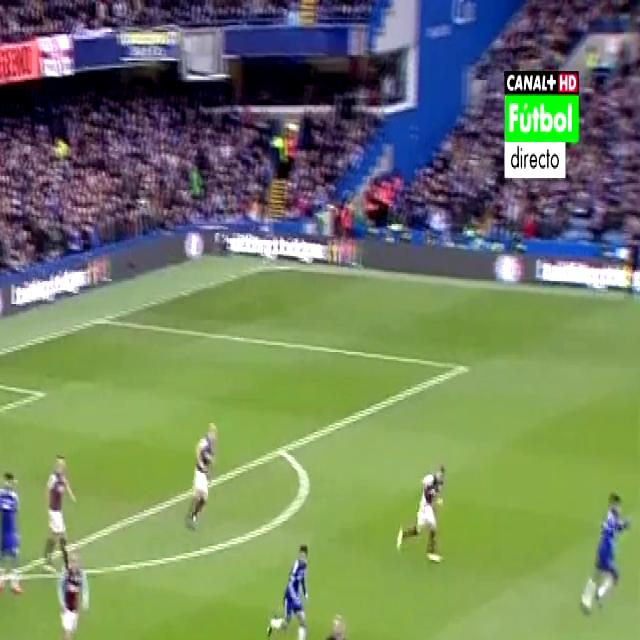referee: (311, 604, 362, 640)
soccer-player: (575, 476, 630, 620), (397, 450, 452, 568), (262, 528, 317, 640), (180, 410, 221, 541), (38, 442, 77, 572), (45, 538, 89, 640), (0, 452, 26, 602)
